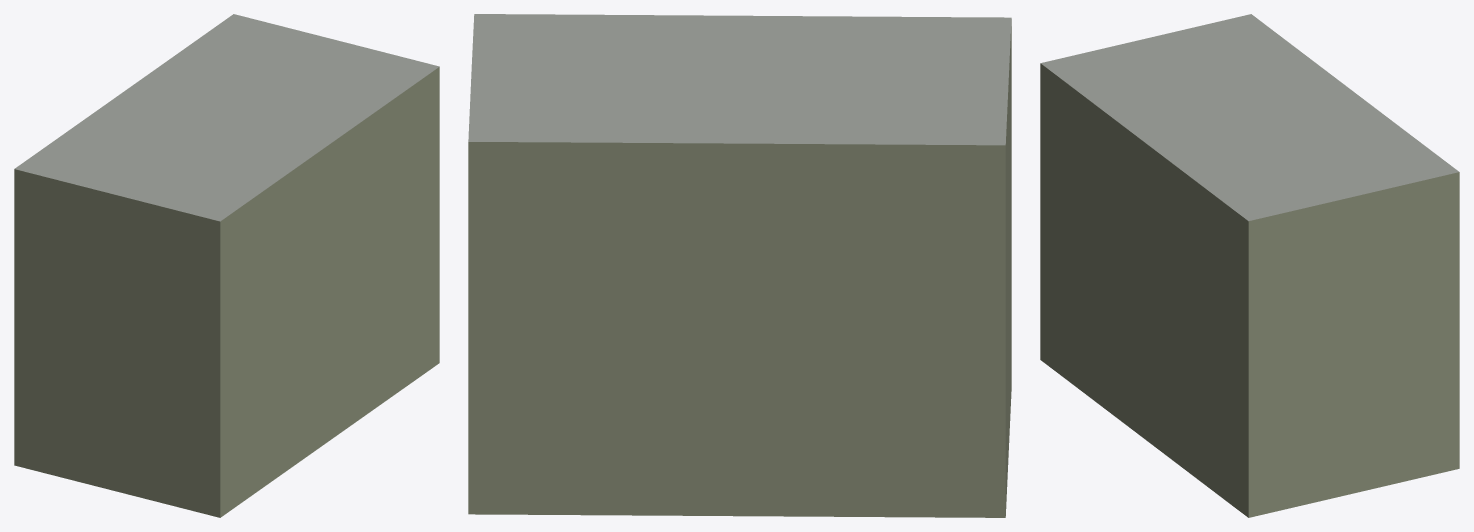
Rendered from nyc-1015987-0.glb.
3 views of the same model, side by side, from view 1: azimuth 30°, elevation 25°; view 2: azimuth 150°, elevation 25°; view 3: azimuth 270°, elevation 25° (orthographic). The views are drawn at different scales.
Parts seen in each view (by area): view 1: nyc-1015987-0; view 2: nyc-1015987-0; view 3: nyc-1015987-0.
Boxes of the visible parts, x1=… form: nyc-1015987-0: x1=14, y1=14, x2=439, y2=517; nyc-1015987-0: x1=468, y1=14, x2=1011, y2=517; nyc-1015987-0: x1=1040, y1=14, x2=1459, y2=517.
Size of the model in its own units: 29.94 by 19.99 by 25.59.
